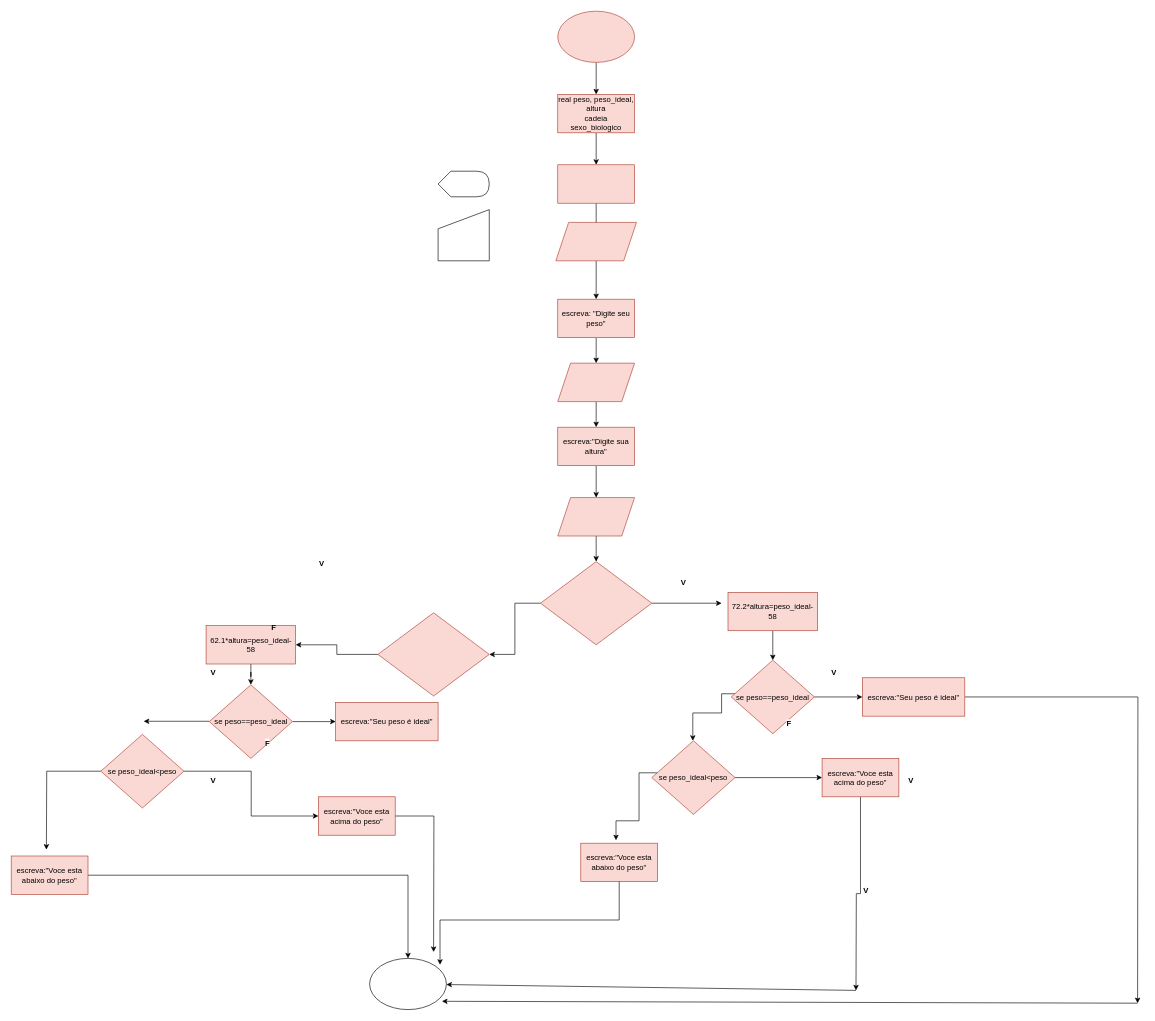
The diagram is 1155 pixels wide and 1021 high, and some of its shapes have lost their labels. The shapes that lost their labels are listed below. From the top down, each one's box as (x1, y1, x2, y2) in pixels, then its label:
(557, 11, 635, 62): Inicio
(557, 164, 635, 203): escreva:"Digite seu sexo: "
(555, 222, 636, 261): leia sexo_biologico
(557, 363, 635, 402): leia peso
(557, 497, 635, 536): leia altura
(540, 561, 652, 645): se sexo_biologico==masculino
(377, 612, 489, 696): se sexo_biologico==feminino
(369, 958, 446, 1010): Fim
